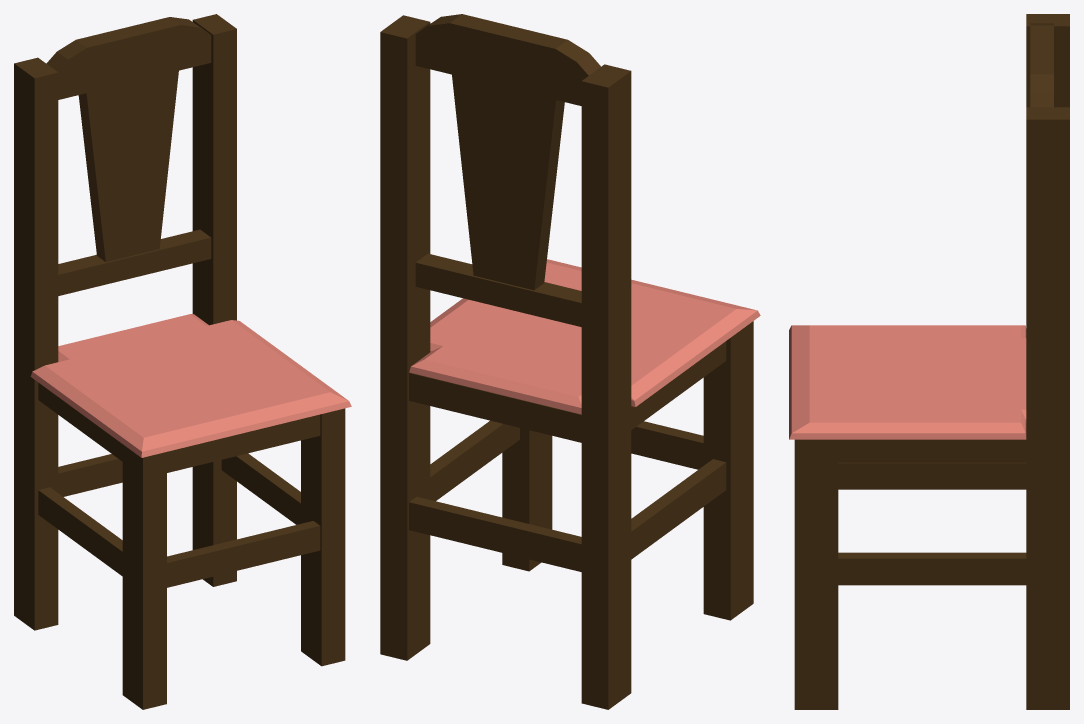
The model's file is cadeira.fbx.
3 views of the same model, side by side, from view 1: azimuth 30°, elevation 25°; view 2: azimuth 150°, elevation 25°; view 3: azimuth 270°, elevation 25° (orthographic). The views are drawn at different scales.
Parts seen in each view (by area): view 1: cadeira; view 2: cadeira; view 3: cadeira.
Part boxes in pixels (x1,y1,x2,y2): cadeira: (14,14,351,709); cadeira: (380,14,760,709); cadeira: (789,14,1069,709).
Size of the model in its own units: 42.45 by 110 by 45.94.
